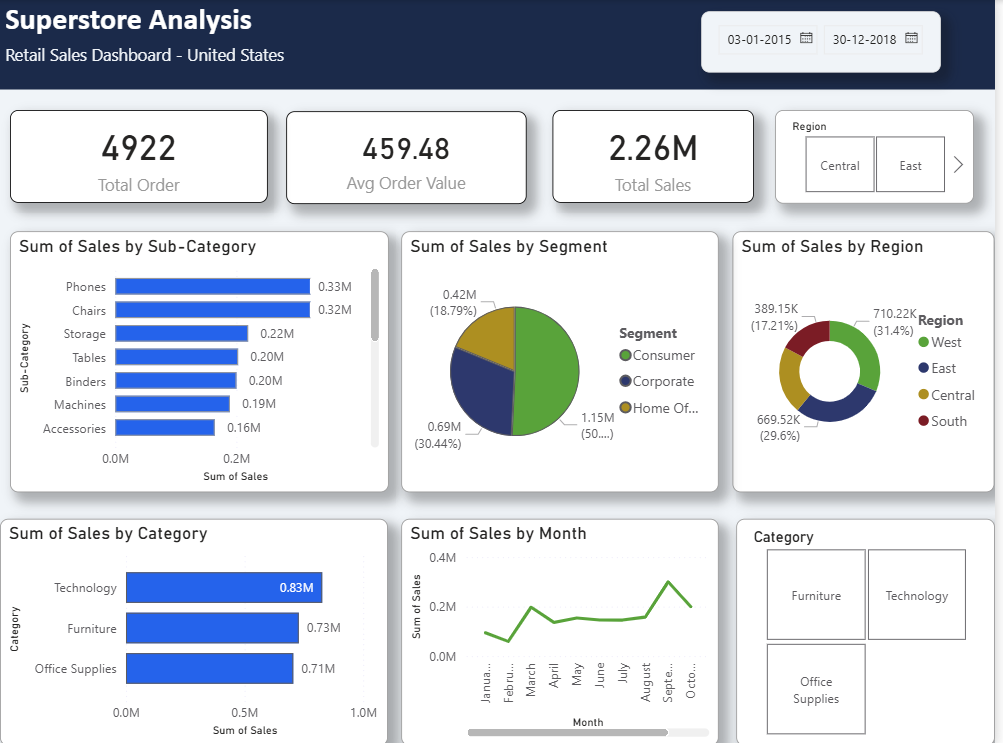

What the dashboard file says about the page in this screenshot:
{"tool":"powerbi","page":{"name":"Page 1","canvas":[960,720],"ordinal":0},"visuals":[{"type":"textbox","title":"Superstore Analysis","box":[0,0,1280.3,86.4],"z":0},{"type":"card","fields":{"Values":["train.Avg Order Value"]},"box":[276.3,107.4,231.6,89.3],"z":1000},{"type":"card","fields":{"Values":["train.Total Order"]},"box":[9.7,106.2,248.5,89.3],"z":2000},{"type":"card","fields":{"Values":["train.Total Sales"]},"box":[533.2,106.2,194.2,89.3],"z":3000},{"type":"barChart","fields":{"Y":["Sum(train.Sales)"],"Category":["train.Sub-Category"]},"box":[9.4,223.5,365.4,251.6],"z":4000},{"type":"donutChart","fields":{"Category":["train.Region"],"Y":["Sum(train.Sales)"]},"box":[706.8,223.5,253,251.6],"z":5000},{"type":"pieChart","fields":{"Category":["train.Segment"],"Y":["Sum(train.Sales)"]},"box":[386.8,223.5,306.5,251.6],"z":6000},{"type":"tableEx","fields":{"Values":["train.Sub-Category","Sum(train.Sales)"]},"box":[968.5,107.2,223,292.8],"z":7000},{"type":"tableEx","fields":{"Values":["train.Ship Mode"]},"box":[1025,487.1,240.1,111.1],"z":8000},{"type":"clusteredBarChart","fields":{"Category":["train.Category"],"Y":["Sum(train.Sales)"]},"box":[0,500.6,374.8,219.5],"z":9000},{"type":"actionButton","box":[1228.1,0,52.1,39.8],"z":10000},{"type":"slicer","fields":{"Values":["train.Region"]},"box":[1114.9,400,153.2,280.9],"z":11000},{"type":"slicer","fields":{"Values":["train.Category"]},"box":[948.1,403.4,153.2,277.4],"z":12000},{"type":"slicer","fields":{"Values":["train.Order Date"]},"box":[677.3,10.7,231.6,58.9],"z":12003},{"type":"lineChart","fields":{"Category":["train.Order Date.Variation.Date Hierarchy.Month"],"Y":["Sum(train.Sales)"]},"box":[387.3,500.7,306.4,219.6],"z":12004},{"type":"slicer","fields":{"Values":["train.Category"]},"box":[710.6,500.7,249.7,219.6],"z":12005},{"type":"slicer","fields":{"Values":["train.Region"]},"box":[748,106.2,191.8,90.5],"z":12006}]}

Visuals, with their boxes in screenshot pixels (x1, y1, x2, y2), scaled from the page's 960x720 canvas onto the 1003x743 screenshot:
"Superstore Analysis" textbox: 0 0 1002 89
card - train.Avg Order Value: 289 111 531 203
card - train.Total Order: 10 110 270 202
card - train.Total Sales: 557 110 760 202
barChart - Sum(train.Sales) x train.Sub-Category: 10 231 392 490
donutChart - train.Region x Sum(train.Sales): 738 231 1002 490
pieChart - train.Segment x Sum(train.Sales): 404 231 724 490
clusteredBarChart - train.Category x Sum(train.Sales): 0 517 392 742
slicer - train.Category: 991 416 1002 703
slicer - train.Order Date: 708 11 950 72
lineChart - train.Order Date.Variation.Date Hierarchy.Month x Sum(train.Sales): 405 517 725 742
slicer - train.Category: 742 517 1002 742
slicer - train.Region: 782 110 982 203
